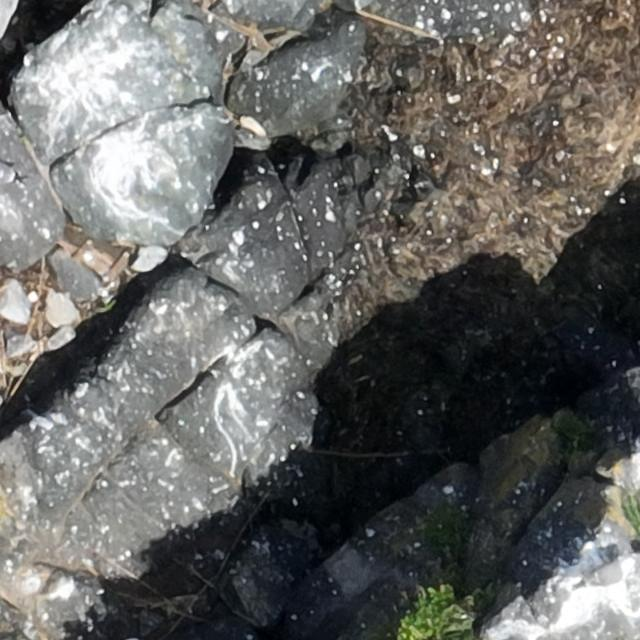umineko: (578, 555, 633, 588)
